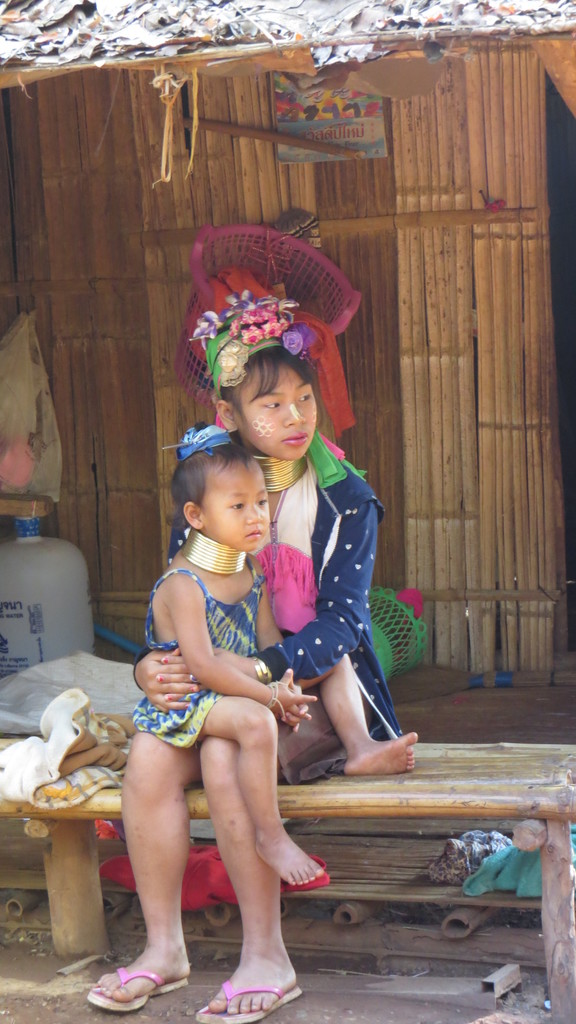Human-face: (236, 353, 320, 458), (203, 456, 271, 556)
